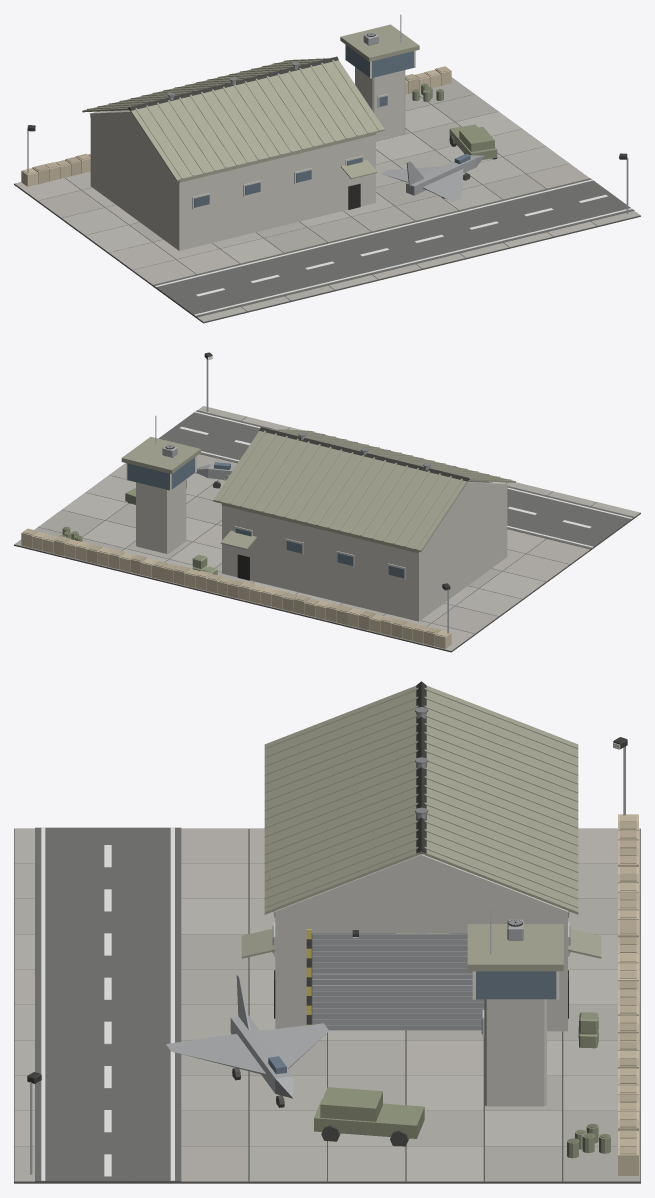
File: b_airfield.glb
3 renders of one model, top to bottom at view 1: azimuth 30°, elevation 25°; view 2: azimuth 150°, elevation 25°; view 3: azimuth 270°, elevation 25°, orthographic. The views are drawn at different scales.
Visible parts, largest first — view 1: hull; view 2: hull; view 3: hull, door.
Boxes of the visible parts, x1,y1,x2,y2 form: hull: (14,14,640,323); hull: (14,352,640,652); hull: (14,681,640,1183); door: (312,933,484,1030).
Size of the model in its own units: 40 by 10.5 by 30.
